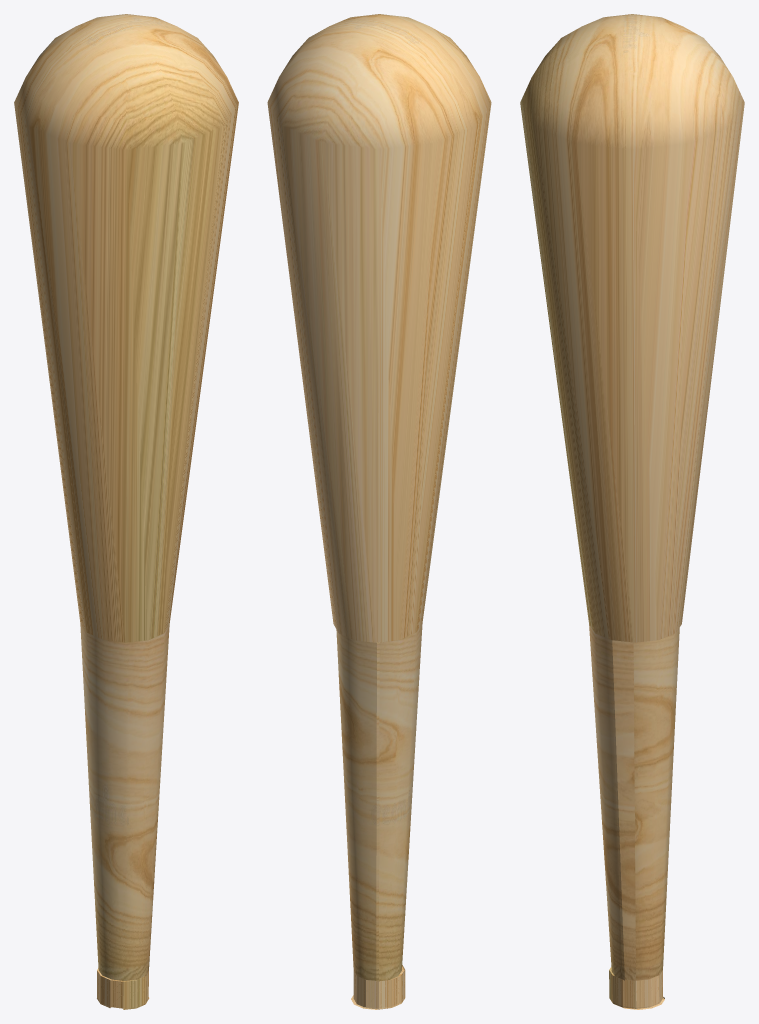
The model's file is baseballbat.fbx.
3 renders of one model, left to right at view 1: azimuth 30°, elevation 25°; view 2: azimuth 150°, elevation 25°; view 3: azimuth 270°, elevation 25°, orthographic.
Visible parts, largest first — view 1: Capsule001; view 2: Capsule001; view 3: Capsule001.
Boxes of the visible parts, x1,y1,x2,y2 form: Capsule001: (14,14,238,1009); Capsule001: (267,14,491,1009); Capsule001: (520,14,744,1009).
Bounding box in the file's own units: 9.53 × 45.63 × 9.53.
Materials: 1 (1 with a texture image).
